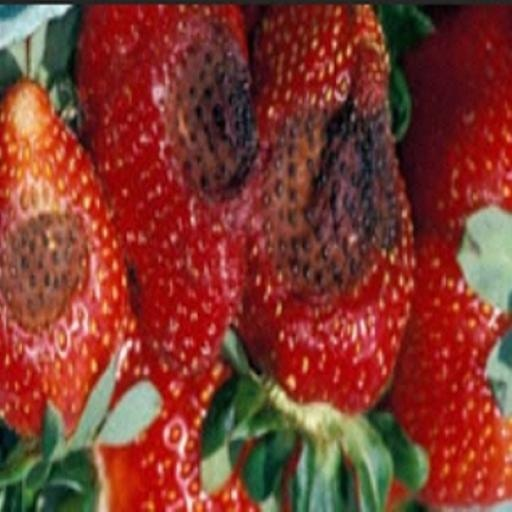Anthracnose Fruit Rot: (252, 208, 405, 418), (148, 305, 261, 495), (0, 172, 99, 306)
